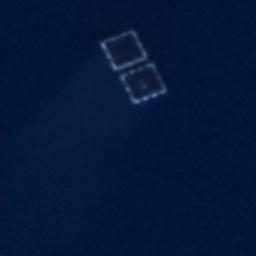square_solid: (115, 57, 173, 107), (95, 26, 154, 74)
